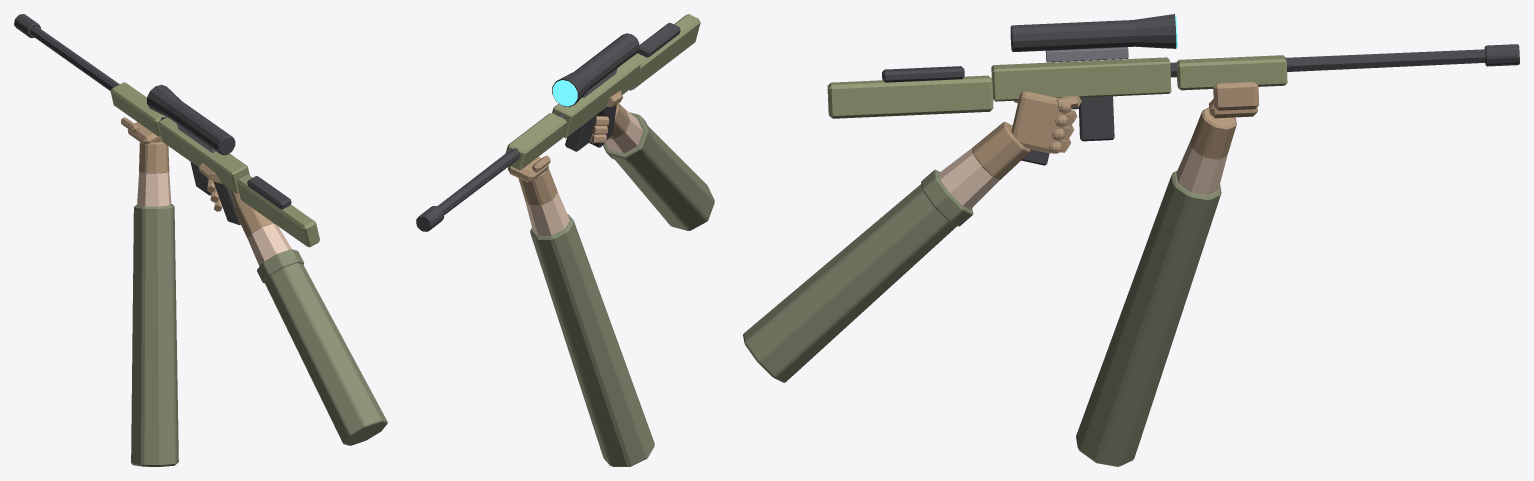
The model's file is viewmodel_rifle.glb.
3 views of the same model, side by side, from view 1: azimuth 30°, elevation 25°; view 2: azimuth 150°, elevation 25°; view 3: azimuth 270°, elevation 25° (orthographic). The views are drawn at different scales.
Parts seen in each view (by area): view 1: L_sleeve.002, sleeve.003, receiver.002, stock.002, scope, handguard, barrel.001, L_forearm.002, forearm.003, L_cuff.002, sleeve_hem.003, cuff.003 (+3 smaller); view 2: L_sleeve.002, sleeve.003, receiver.002, handguard, stock.002, scope, barrel.001, L_forearm.002, L_cuff.002, sleeve_hem.003, forearm.003, cheek (+7 smaller); view 3: L_sleeve.002, sleeve.003, receiver.002, stock.002, scope, handguard, barrel.001, hand_back.003, forearm.003, cuff.003, L_forearm.002, L_cuff.002 (+6 smaller).
Part boxes in pixels (x1,y1,x2,y2): L_sleeve.002: [131, 204, 178, 466]; sleeve.003: [264, 263, 387, 445]; receiver.002: [158, 117, 249, 193]; stock.002: [237, 174, 319, 247]; scope: [167, 100, 235, 155]; handguard: [110, 82, 166, 136]; barrel.001: [30, 26, 166, 120]; L_forearm.002: [137, 171, 171, 206]; forearm.003: [248, 223, 291, 266]; L_cuff.002: [139, 140, 169, 173]; sleeve_hem.003: [257, 249, 304, 283]; cuff.003: [234, 201, 274, 238]; L_sleeve.002: [530, 214, 654, 466]; sleeve.003: [615, 126, 714, 230]; receiver.002: [552, 58, 640, 137]; handguard: [506, 113, 566, 170]; stock.002: [629, 14, 700, 90]; scope: [575, 33, 639, 89]; barrel.001: [437, 113, 565, 215]; L_forearm.002: [525, 191, 569, 235]; L_cuff.002: [518, 168, 557, 205]; sleeve_hem.003: [603, 112, 652, 162]; forearm.003: [605, 109, 642, 153]; cheek: [637, 22, 680, 57]; L_sleeve.002: [1076, 171, 1221, 466]; sleeve.003: [743, 184, 956, 382]; receiver.002: [991, 57, 1171, 101]; stock.002: [827, 75, 993, 118]; scope: [1010, 20, 1135, 52]; handguard: [1177, 55, 1287, 90]; barrel.001: [1170, 49, 1485, 77]; hand_back.003: [1011, 91, 1064, 153]; forearm.003: [939, 148, 999, 209]; cuff.003: [972, 121, 1030, 180]; L_forearm.002: [1176, 141, 1227, 195]; L_cuff.002: [1190, 107, 1236, 159].
Size of the model in its own units: 0.0774 by 0.2225 by 0.3398.
